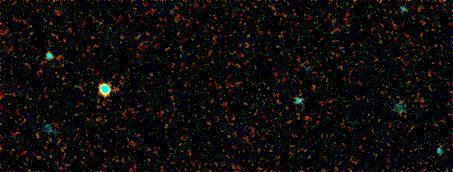star: (300, 71, 330, 101)
